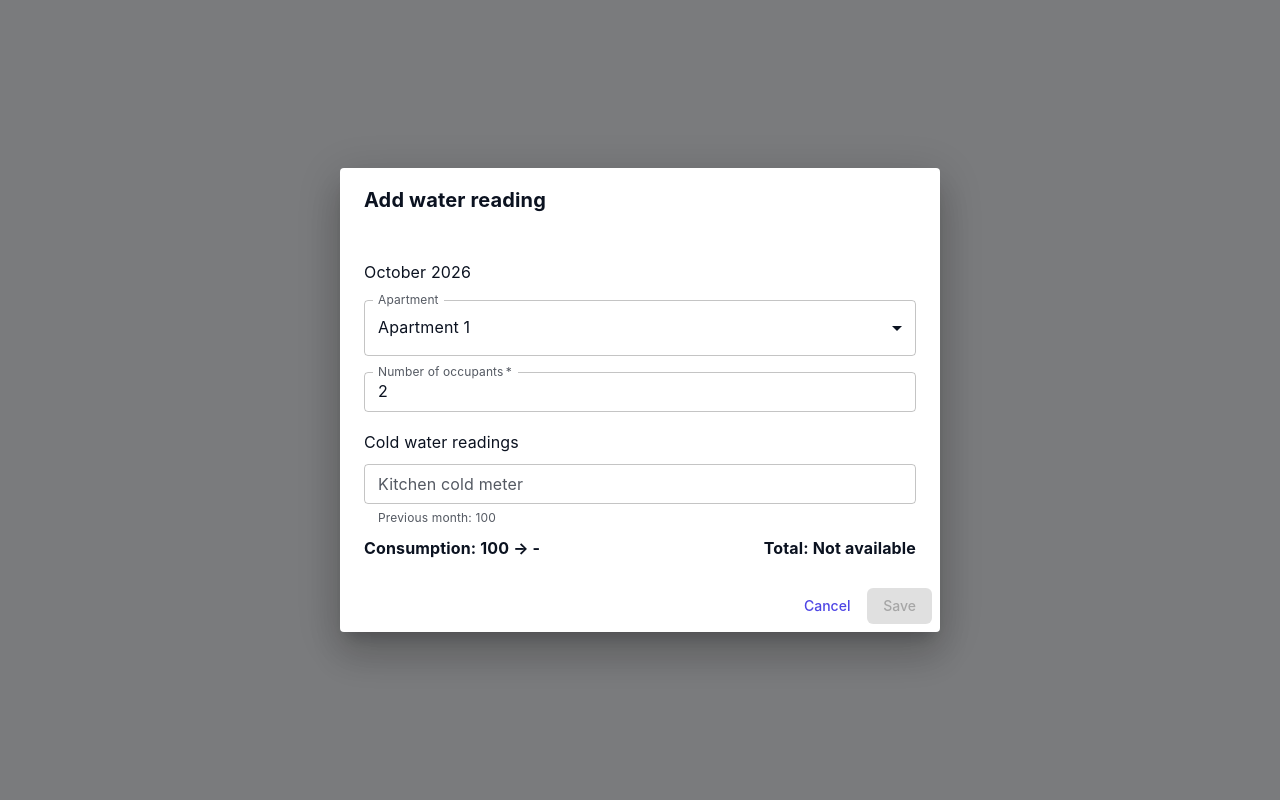
Test case: WaterReadingDialog › preserves the entered reading after a failed request and allows retry
The width and height of the screenshot is (1280, 800).
Type "110" into the number field labelled "Kitchen cold meter" at x=640, y=484, box [364,464,916,504]
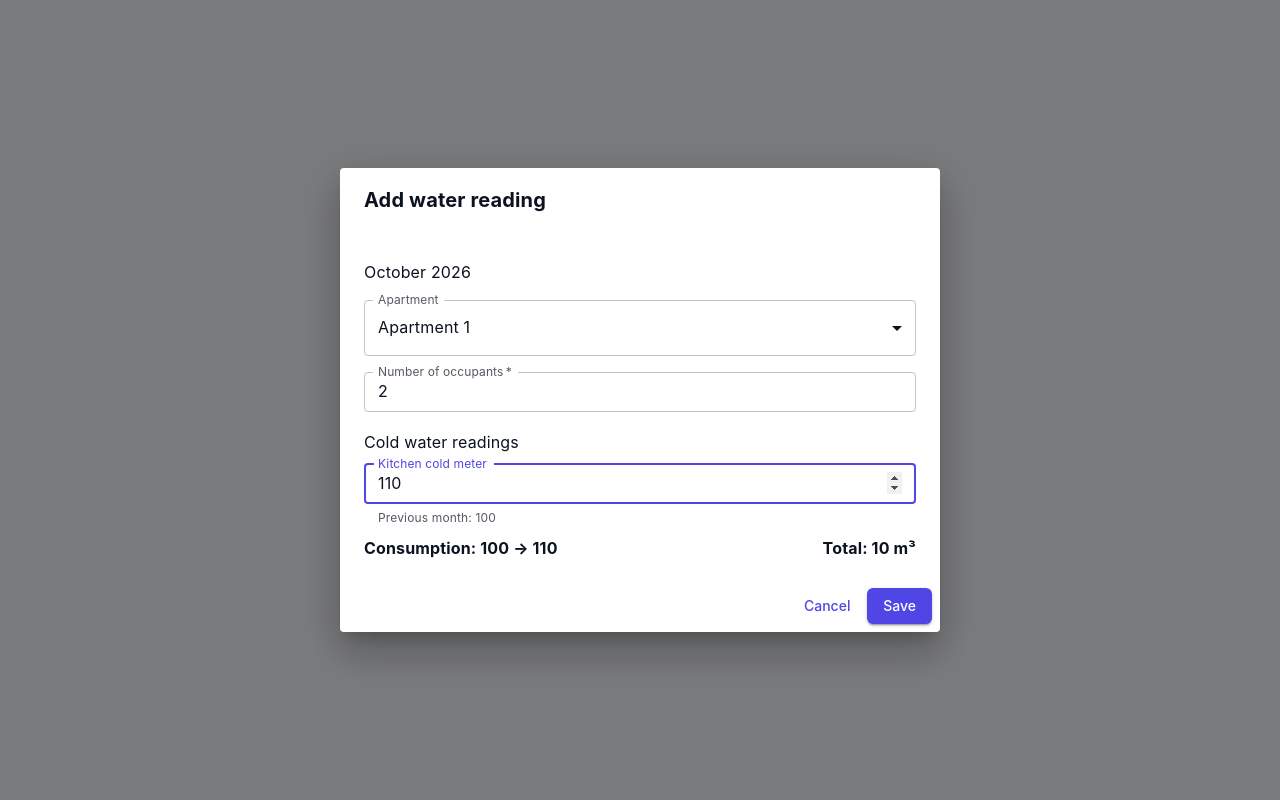
Click the button "Save" at x=900, y=606, box [867,588,932,624]
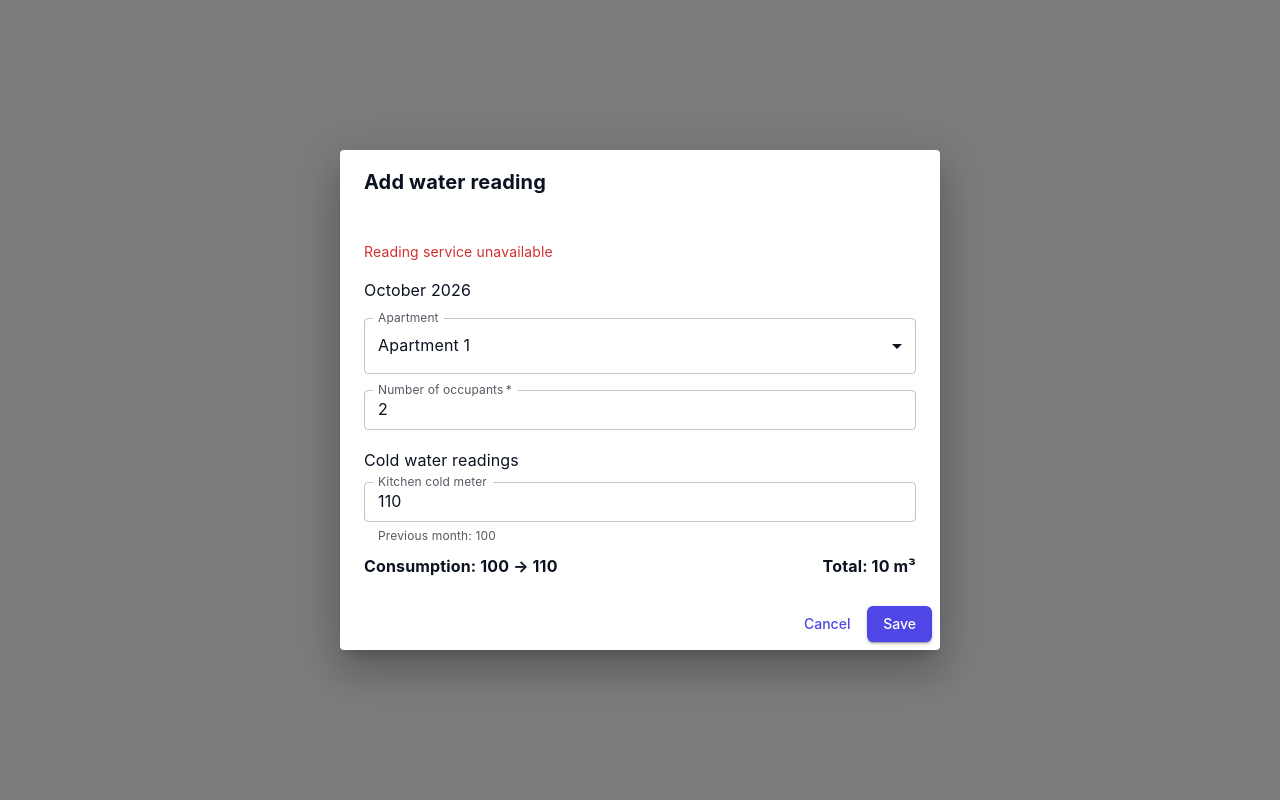
expect the text "Reading service unavailable" is shown: met, box [364,243,553,260]
Click the button "Save" at x=900, y=624, box [867,606,932,642]
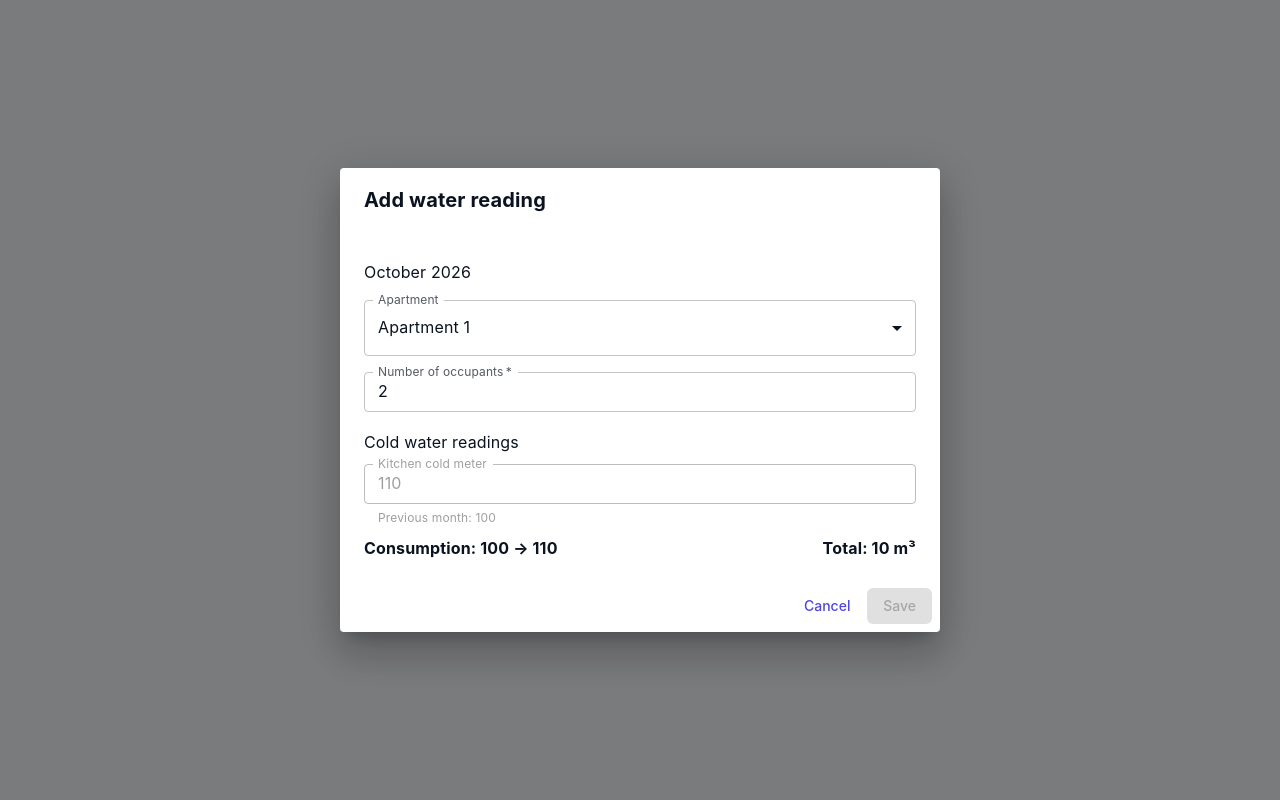
expect the text "Reading service unavailable" is gone: met
